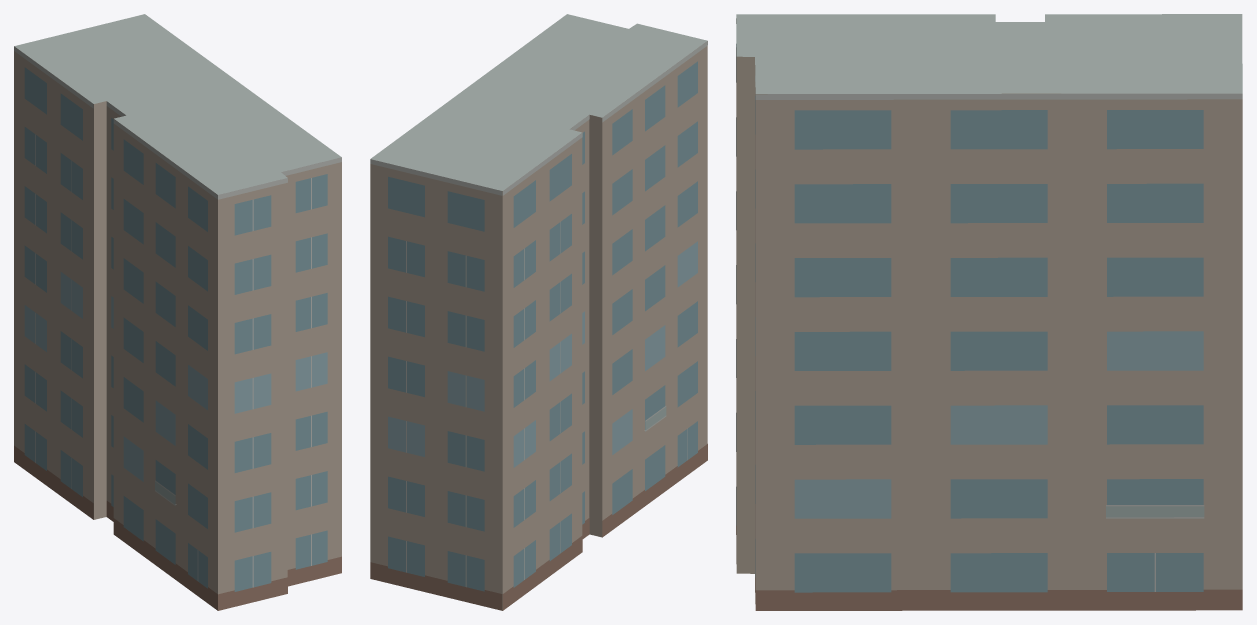
Rendered from survey-upis-32730010.glb.
The picture shows the model from 3 angles, left to right: view 1: azimuth 30°, elevation 25°; view 2: azimuth 150°, elevation 25°; view 3: azimuth 270°, elevation 25°; orthographic projection. The views are drawn at different scales.
Parts seen in each view (by area): view 1: survey-upis-32730010.tmp; view 2: survey-upis-32730010.tmp; view 3: survey-upis-32730010.tmp.
Part boxes in pixels (<box>): survey-upis-32730010.tmp: <box>14,14,341,610</box>; survey-upis-32730010.tmp: <box>370,14,707,610</box>; survey-upis-32730010.tmp: <box>736,14,1242,610</box>.
Bounding box in the file's own units: 7.11 × 21.35 × 18.97.
